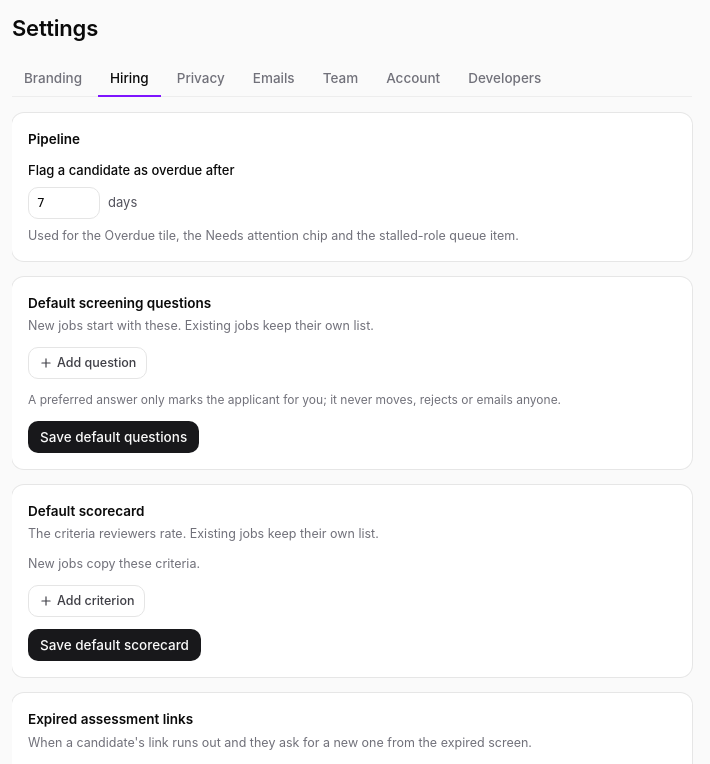
HiringSettingsPage pipeline › shows the stage limit from settings and saves a new value
The width and height of the screenshot is (710, 764).
Replace the text in the number field labelled "Flag a candidate as overdue after" with "14": {"x": 64, "y": 203} [28,187,100,219]
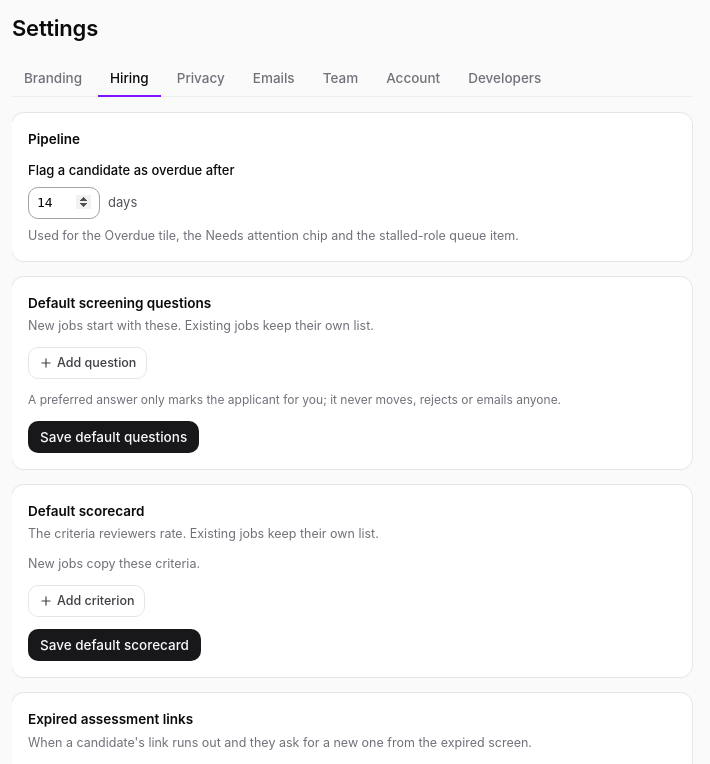
Press Tab
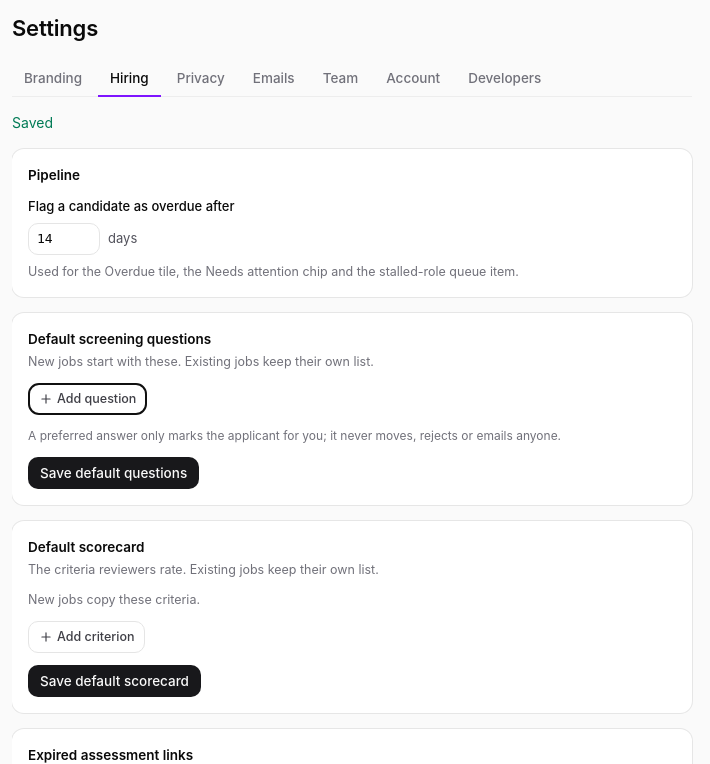
Now the message reads "Saved", box [12,114,53,131]
